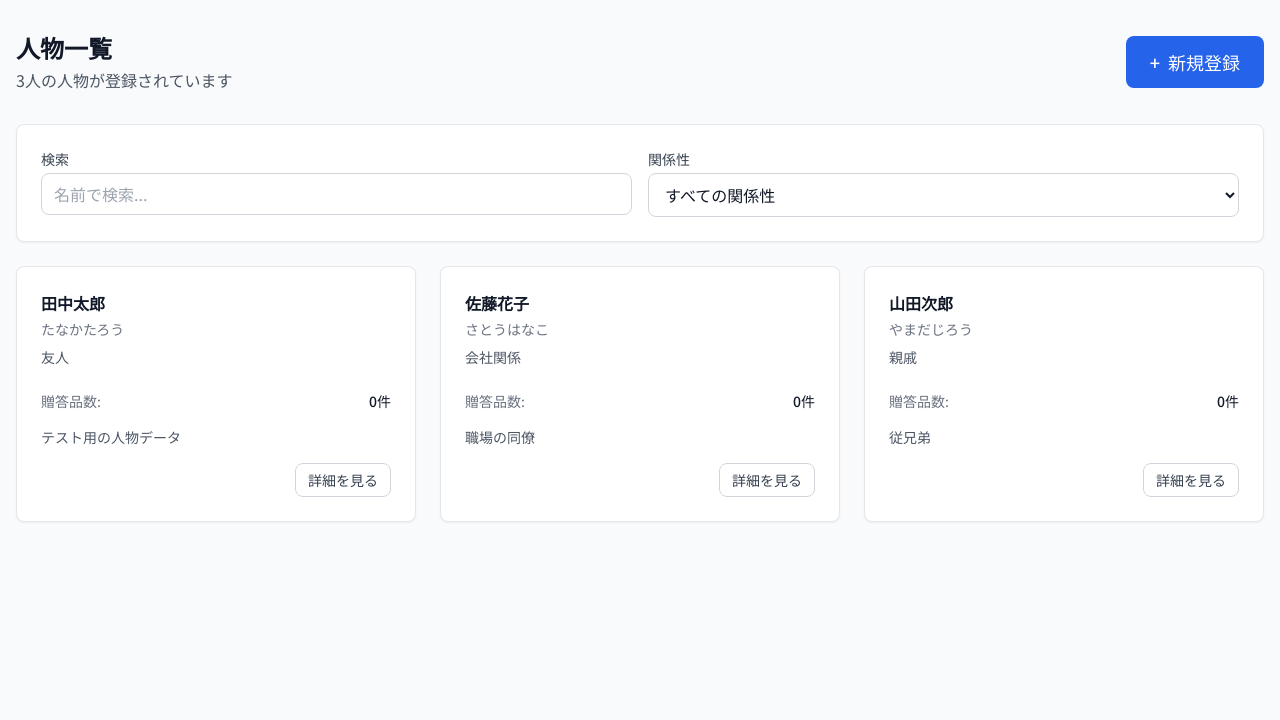
Test: PersonList › 検索結果が正しく表示される
The image size is (1280, 720).
Expected: the heading "人物一覧" is shown, [16,30,112,65]
Type "田中" into the field with placeholder "名前で検索...".
click(336, 194); type("田中")  # box [41,173,632,215]
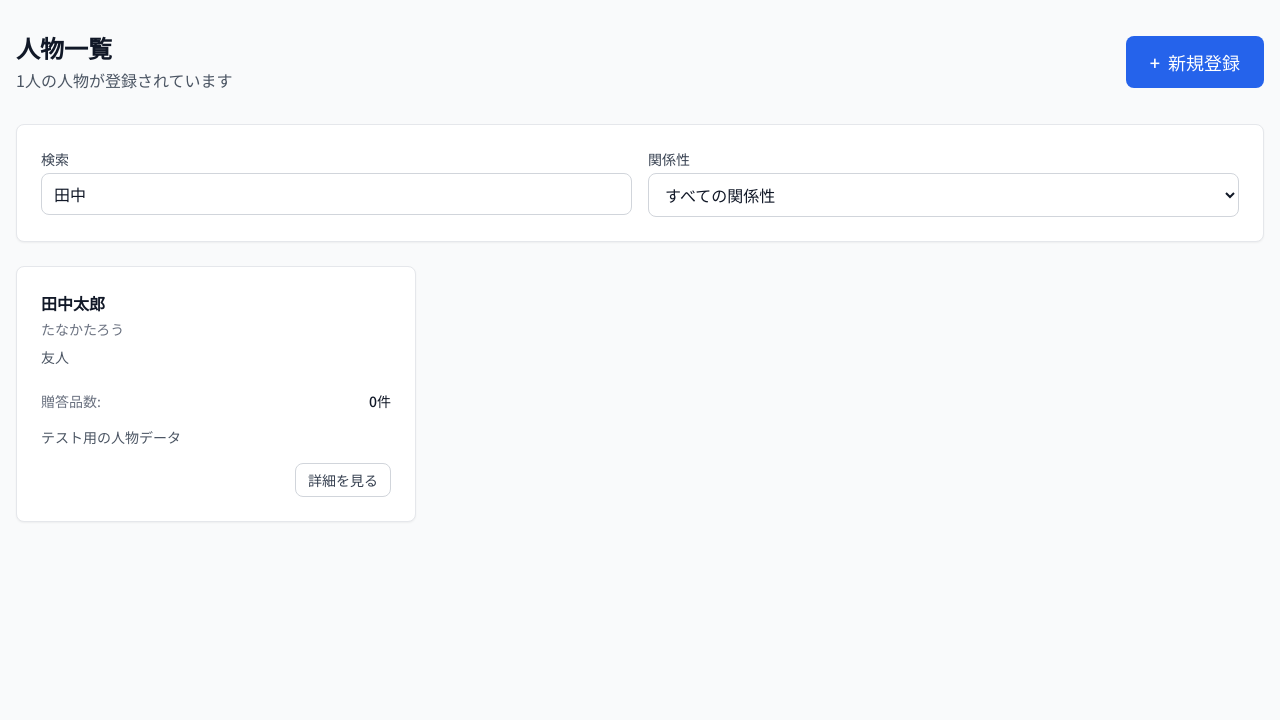
Result: the text "1人の人物が登録されています" is shown at [16,68,232,92]
